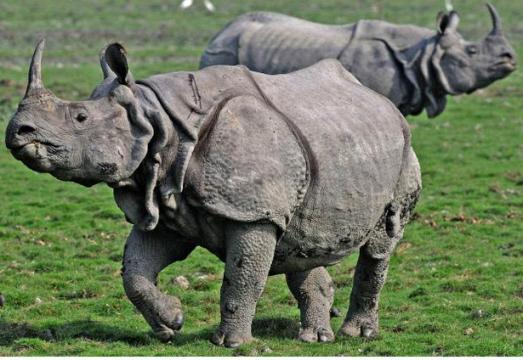rhinoceros: (6, 40, 421, 349), (179, 8, 513, 124)
